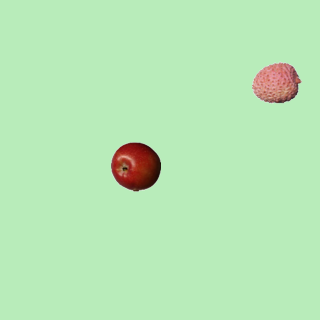Apple Braeburn: (110, 141, 160, 191)
Lychee: (251, 57, 301, 107)
